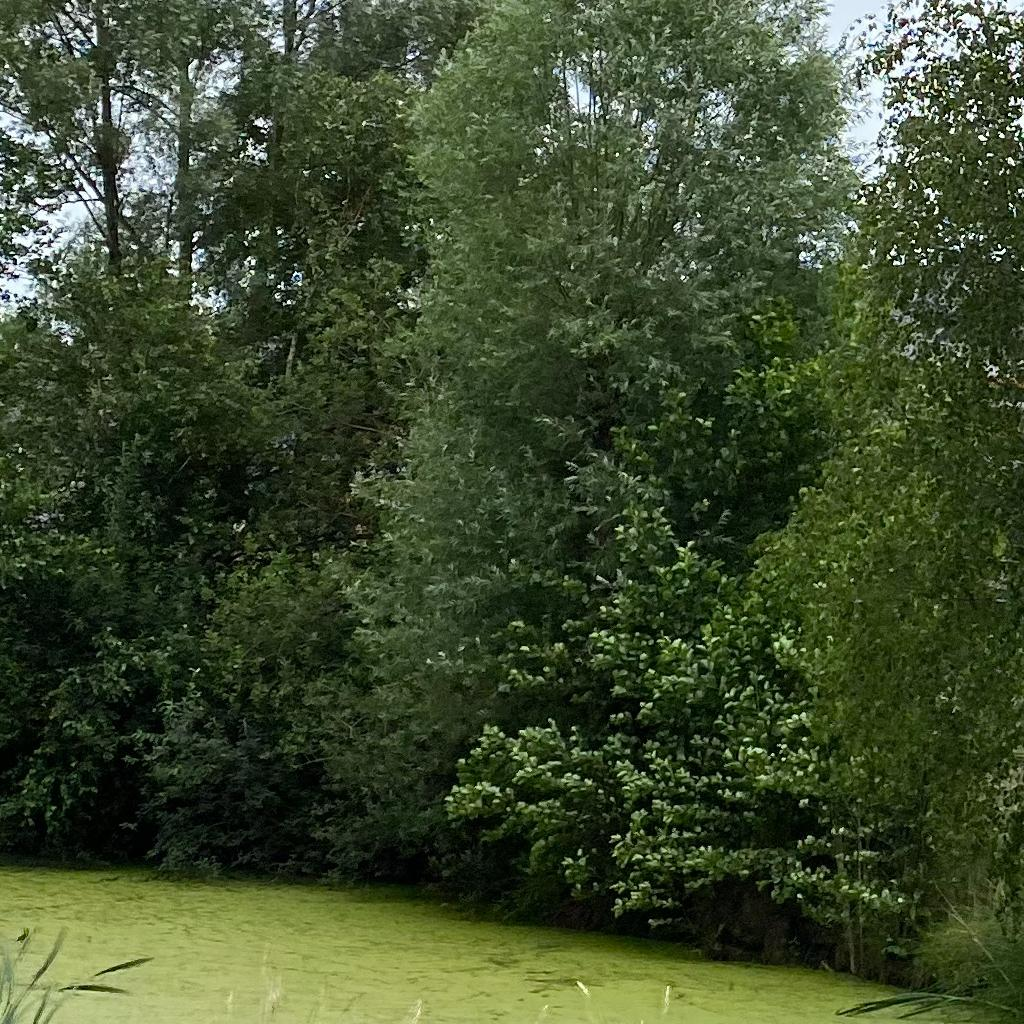tree: (339, 1, 864, 888), (1, 1, 498, 652), (748, 1, 1023, 939)
